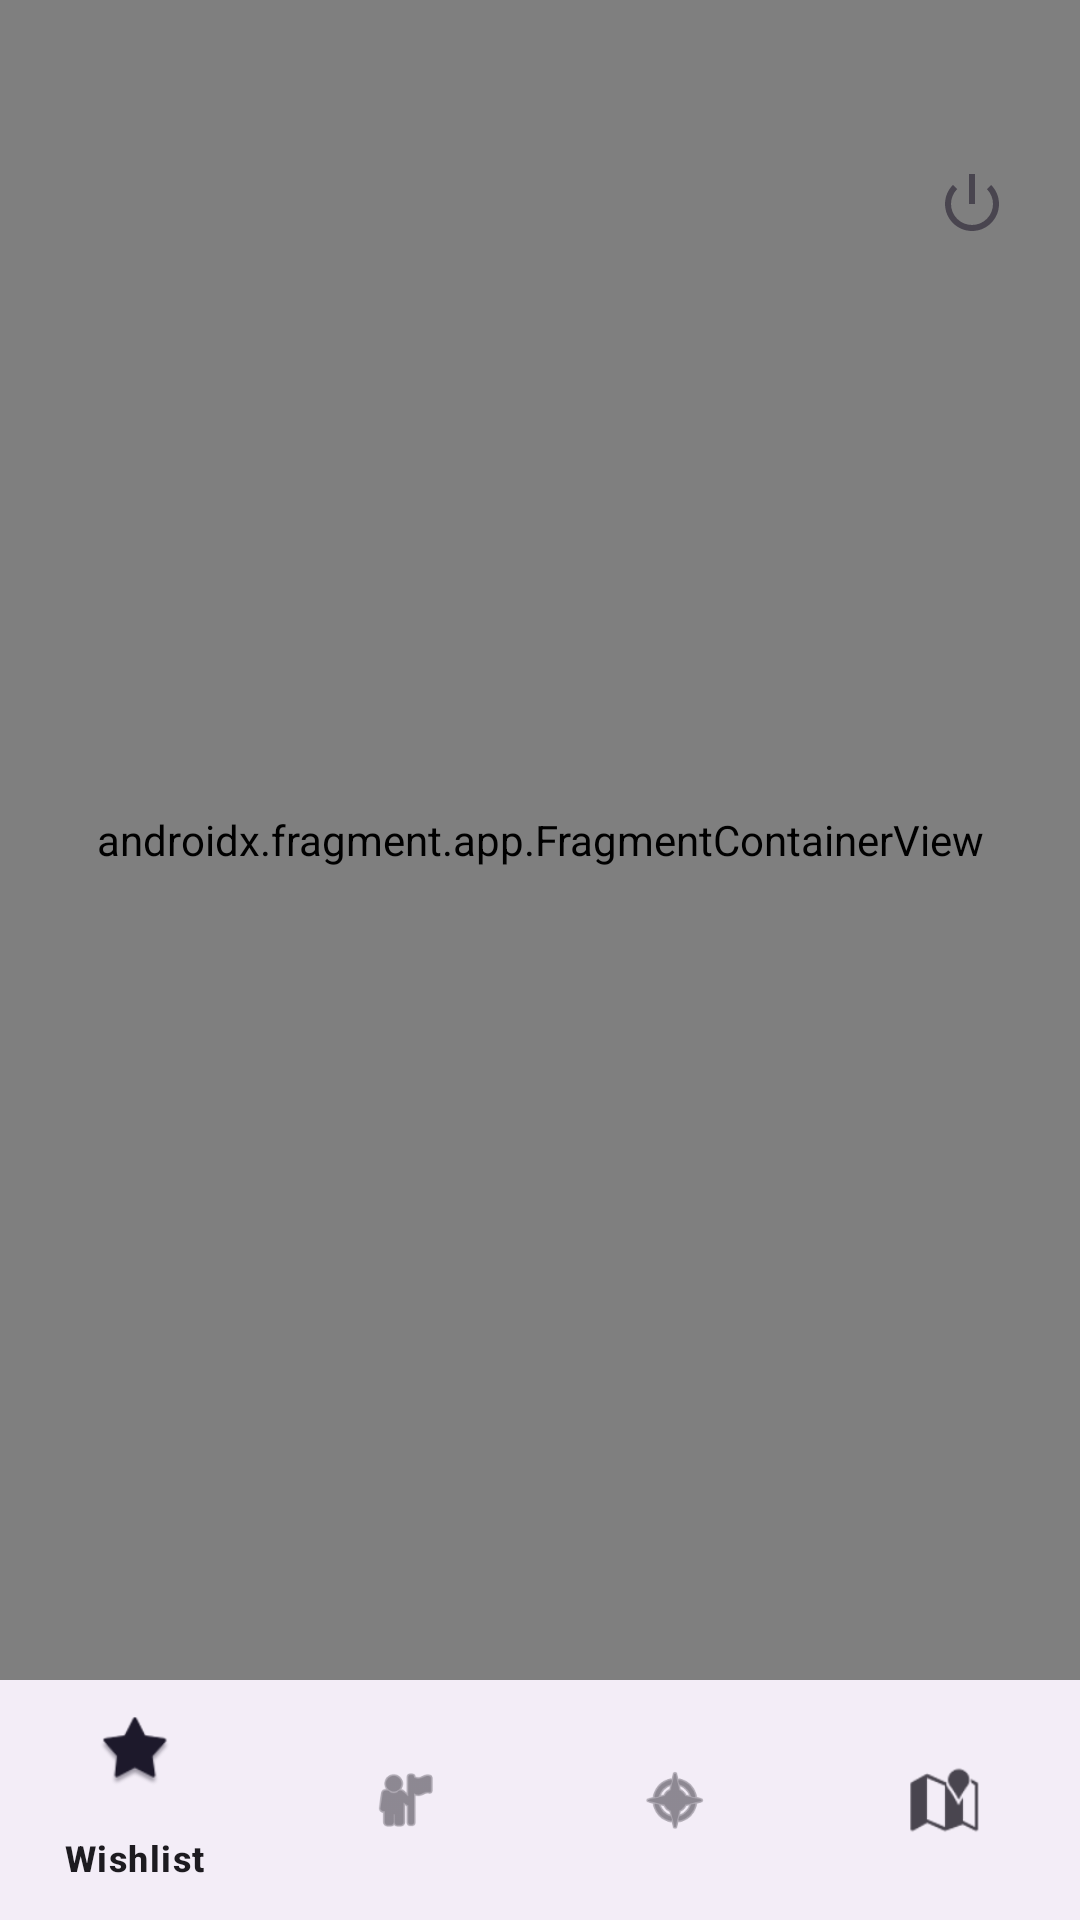

Named icons in this screenshot (1080w x 1920h) and their bounding boxes, rect(x1, y1, x2, y2):
Odjava: rect(945, 174, 999, 231)
